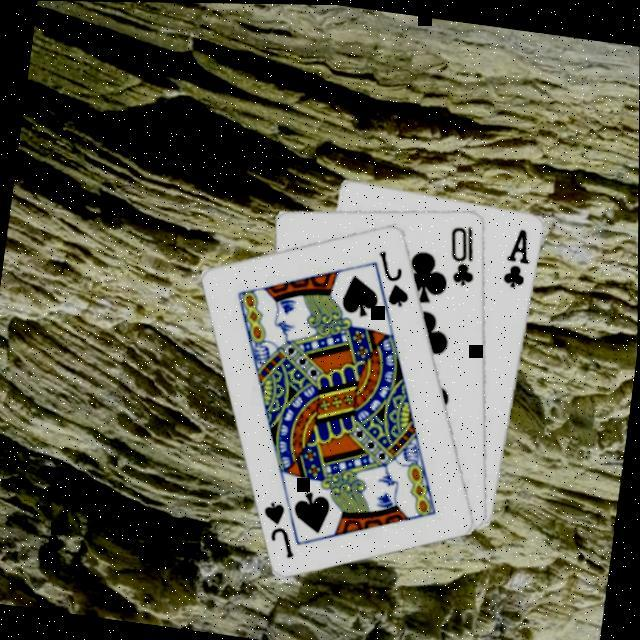10C: (440, 220, 482, 290)
AC: (498, 223, 536, 291)
JS: (253, 497, 302, 563), (369, 246, 416, 311)
